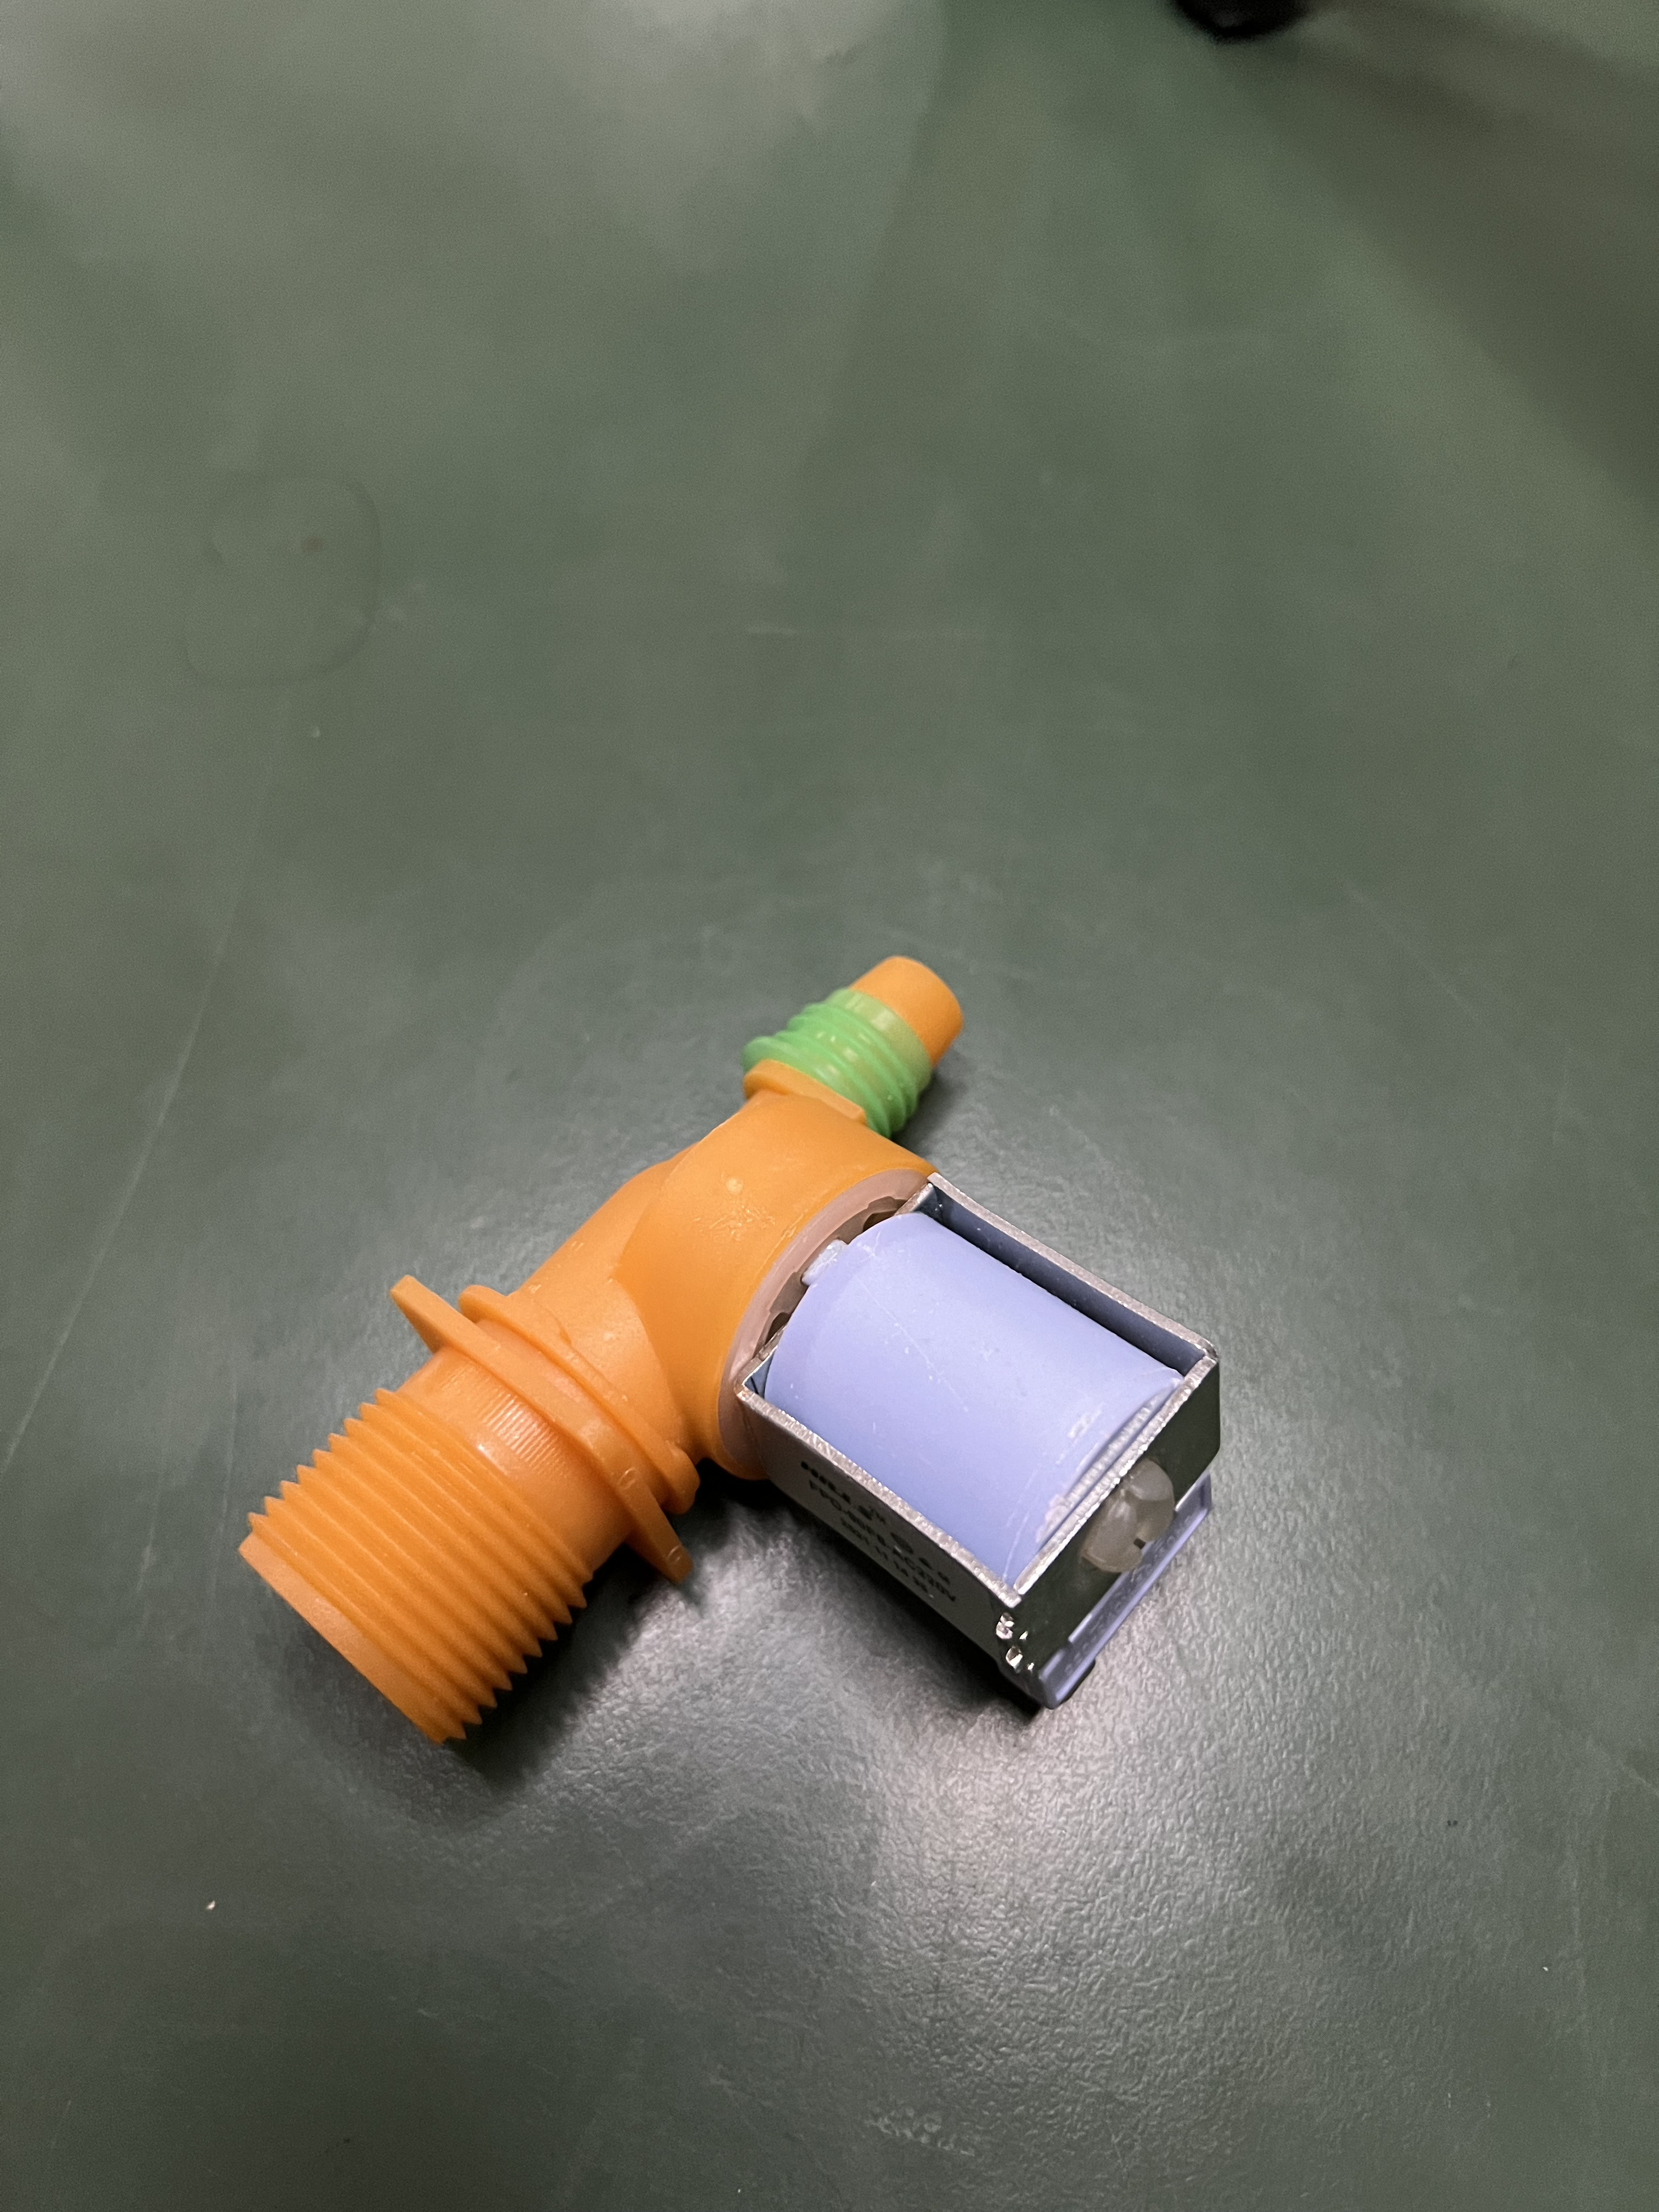ss_inlet_valves: (275, 941, 1265, 1785)
